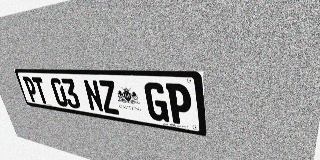0: (49, 78, 69, 107)
3: (61, 78, 81, 109)
G: (143, 82, 169, 122)
N: (82, 79, 104, 113)
P: (166, 83, 193, 126), (22, 76, 40, 103)
T: (31, 77, 50, 104)
Z: (97, 80, 120, 115)
